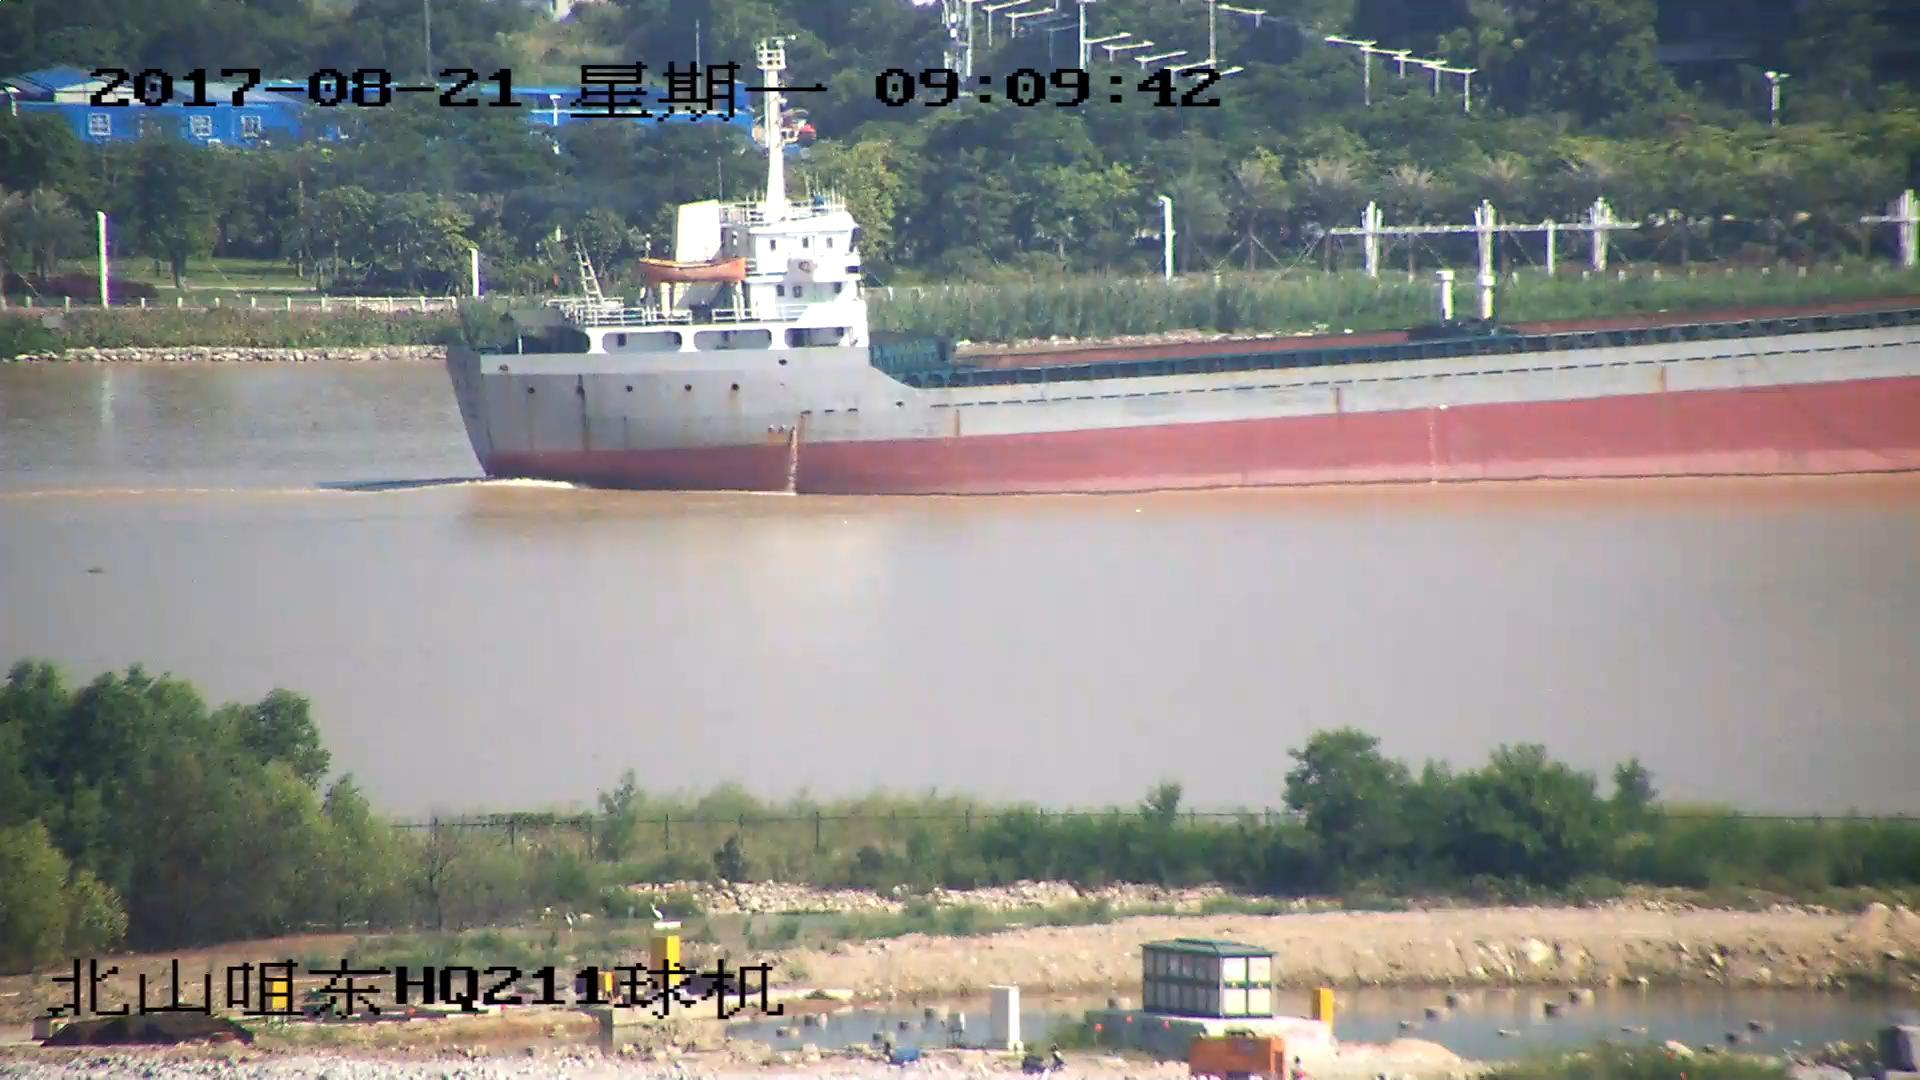Ship: (440, 117, 1920, 495)
